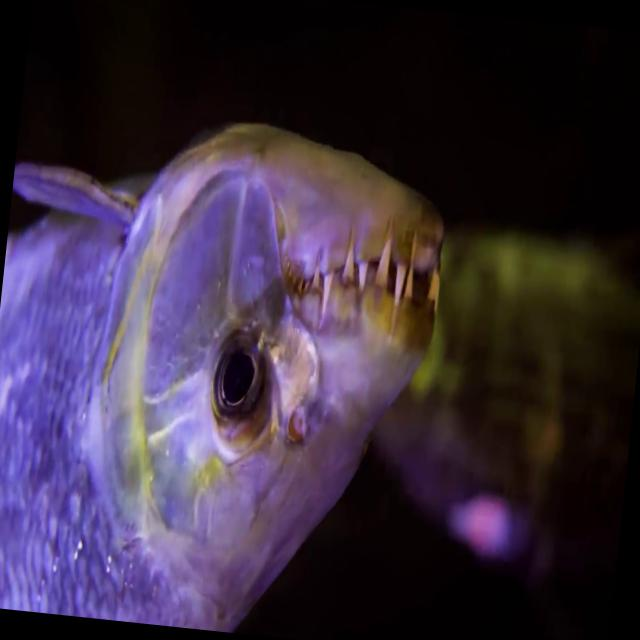fish: (0, 92, 457, 640), (349, 187, 640, 626)
